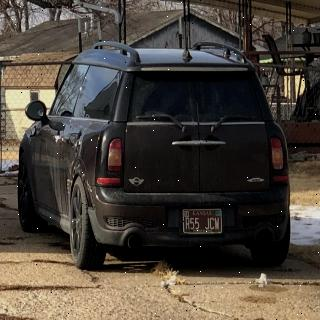license: (183, 209, 223, 235)
